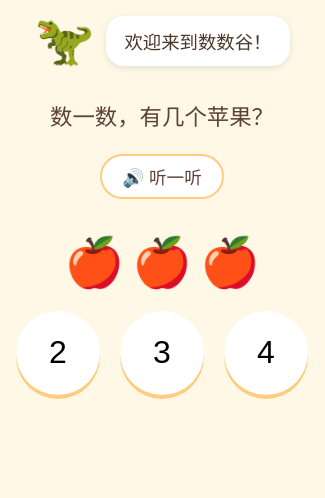
Test case: GameEngine › 答对后进入奖励页并记录星星
Step 1. Click the button "3" → (162, 353), box [120, 311, 204, 395]
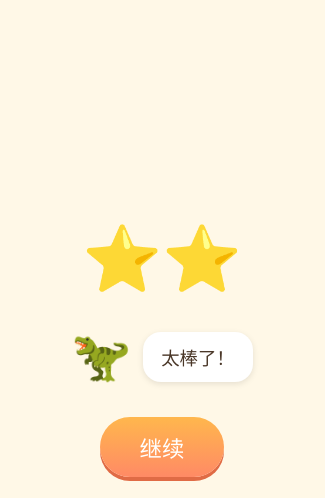
expect the text named "获得星星" reads "⭐⭐": met, box [82, 222, 242, 294]
